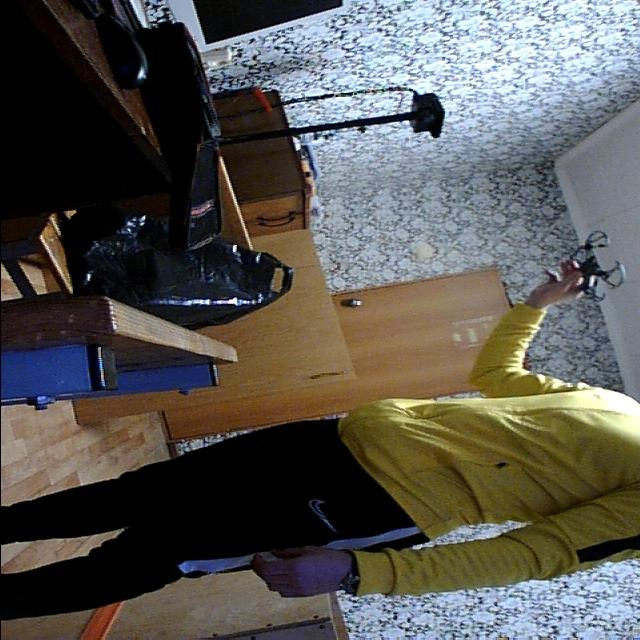drone: (549, 224, 634, 308)
